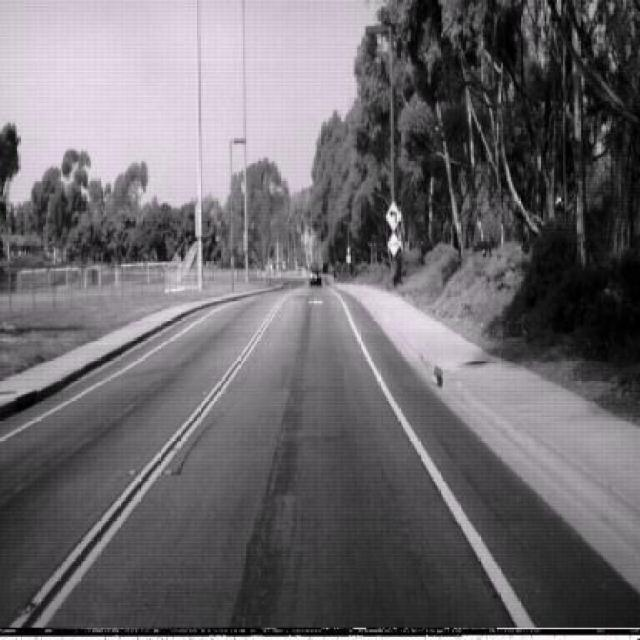turnLeft: (384, 199, 402, 233)
